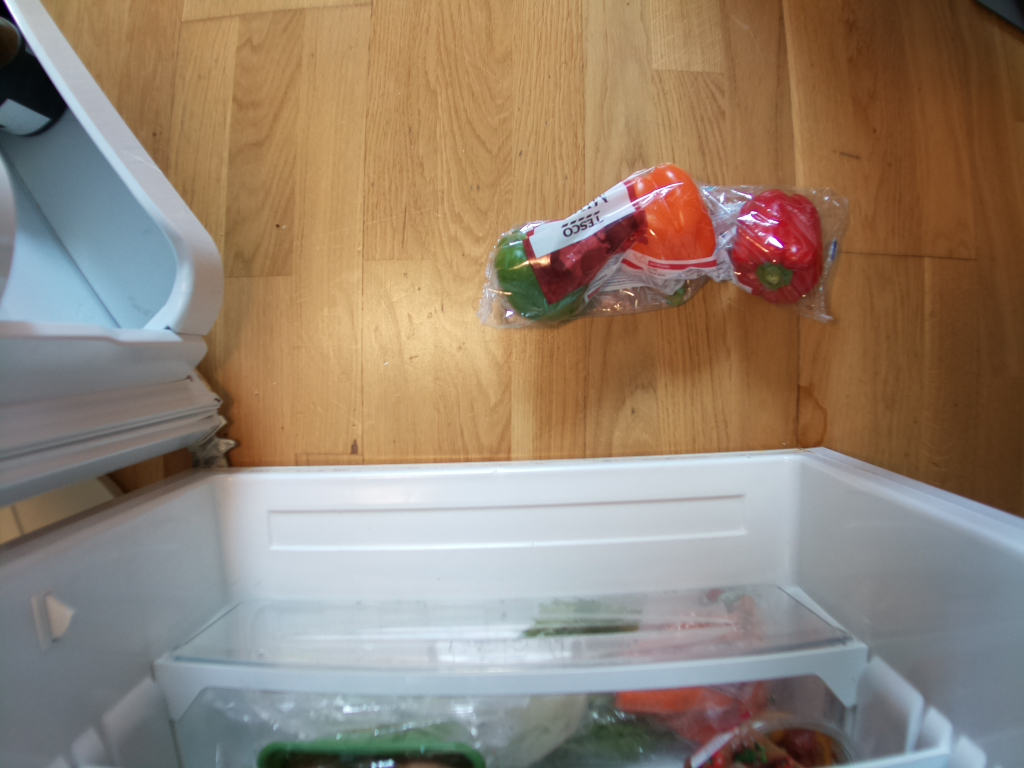pepper: (611, 167, 719, 304), (494, 220, 598, 327), (731, 191, 826, 306)
